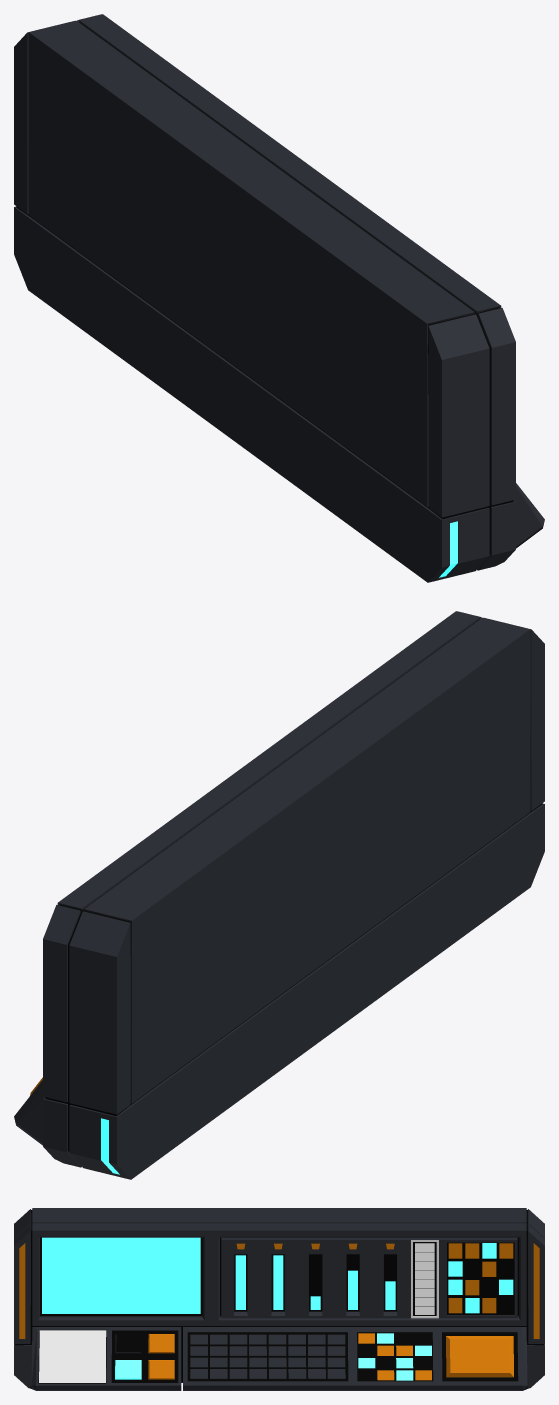
The model's file is SM_Wall_Control_Panel.fbx.
3 renders of one model, top to bottom at view 1: azimuth 30°, elevation 25°; view 2: azimuth 150°, elevation 25°; view 3: azimuth 270°, elevation 25°, orthographic. The views are drawn at different scales.
Visible parts, largest first — view 1: SM_Wall_Control_Panel; view 2: SM_Wall_Control_Panel; view 3: SM_Wall_Control_Panel.
Part boxes in pixels (<box>): SM_Wall_Control_Panel: <box>14,14,544,582</box>; SM_Wall_Control_Panel: <box>14,611,544,1179</box>; SM_Wall_Control_Panel: <box>14,1208,544,1390</box>.
Size of the model in its own units: 19.57 by 40 by 120.
